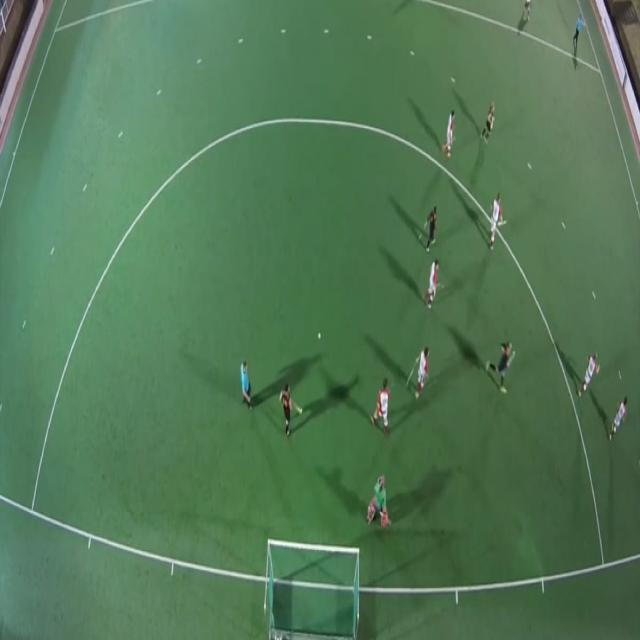humans: (482, 331, 517, 398), (366, 467, 394, 529), (277, 375, 304, 439), (407, 342, 431, 406), (577, 346, 602, 397), (487, 188, 505, 258), (607, 392, 632, 442), (417, 199, 442, 248), (425, 248, 443, 313), (373, 373, 392, 432), (239, 354, 256, 418), (567, 11, 586, 62), (441, 101, 457, 161), (478, 95, 497, 144)
